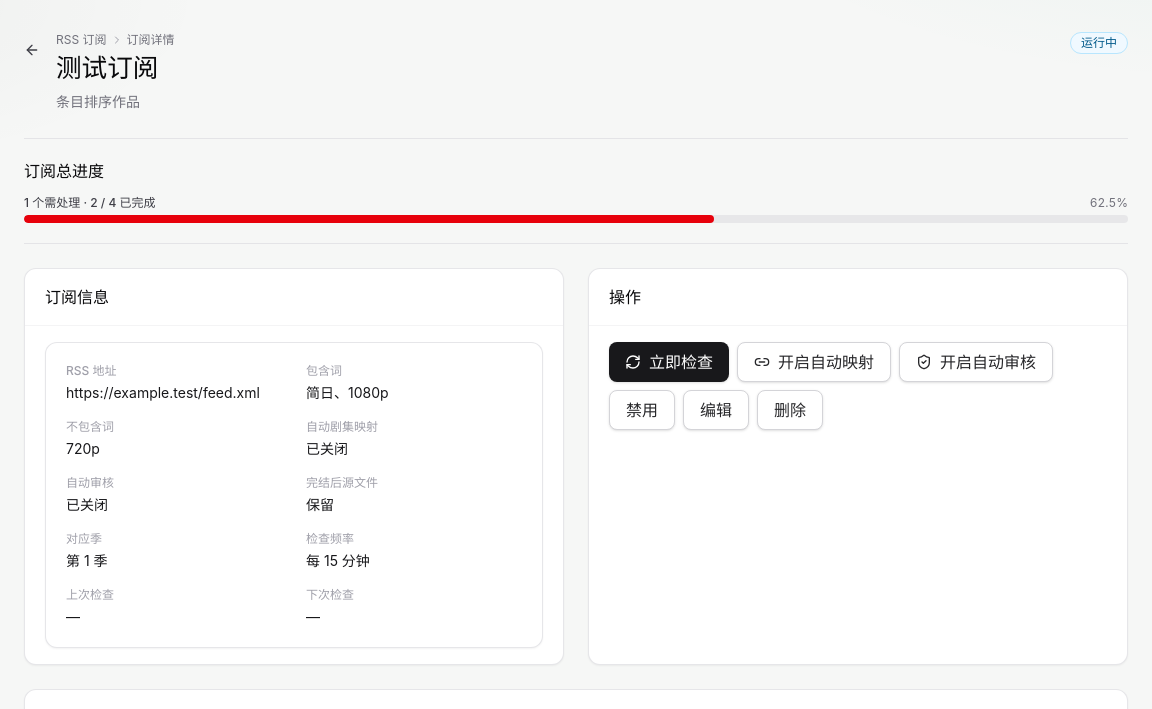
Test: RssDetailPage entries › 立即检查失败时在原页面显示后台错误
What coordinates should you click on to do the following:
click the button "立即检查"
I would click on:
 (669, 362)
Its box is [609, 342, 729, 382].
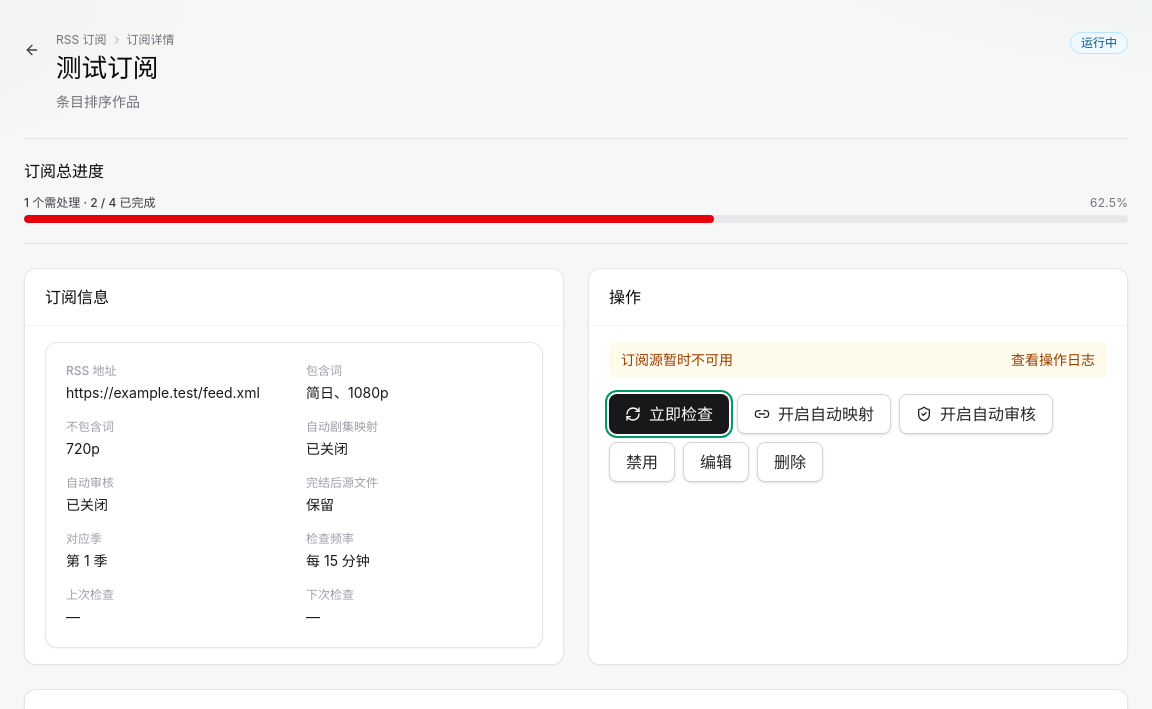
Check: the message shows "订阅源暂时不可用", box [621, 351, 733, 368]
